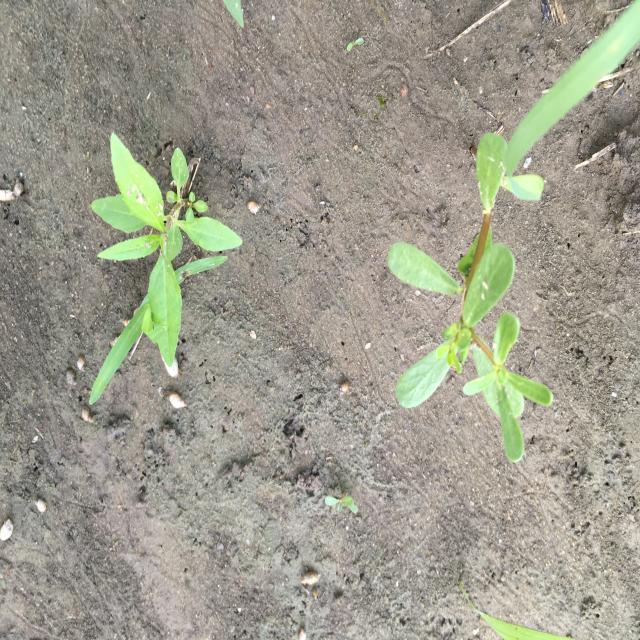Eclipta: (89, 130, 243, 370)
Purslane: (385, 132, 555, 464)
